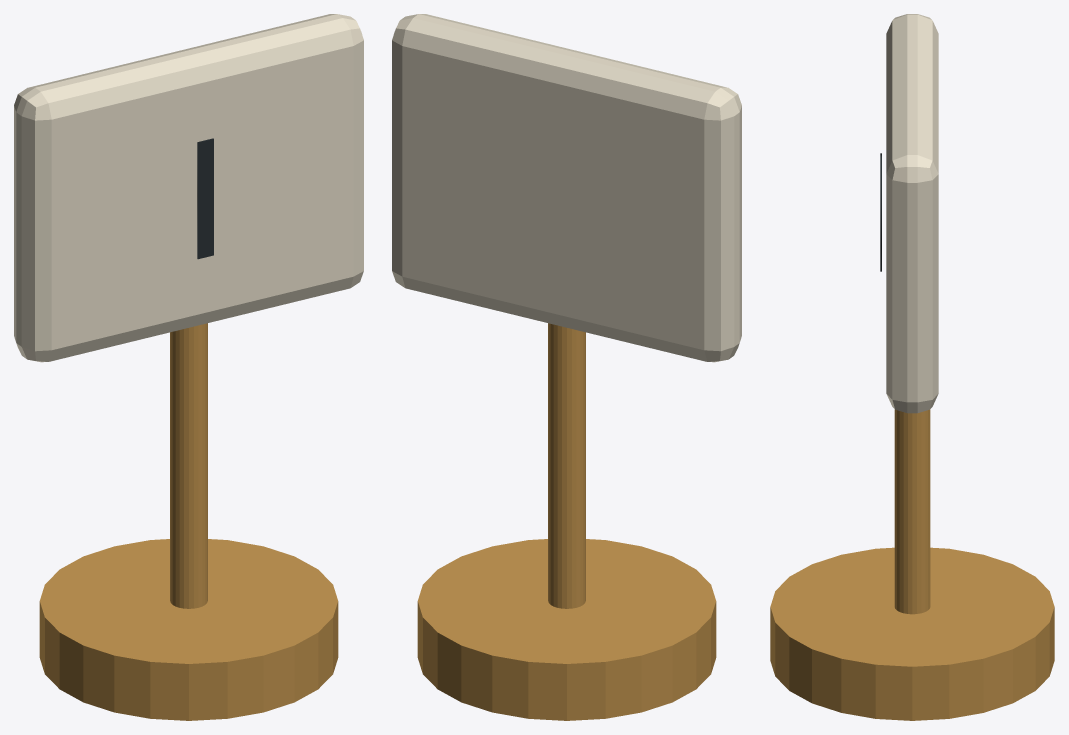
Rendered from table_sign_1.glb.
3 views of the same model, side by side, from view 1: azimuth 30°, elevation 25°; view 2: azimuth 150°, elevation 25°; view 3: azimuth 270°, elevation 25° (orthographic). The views are drawn at different scales.
Visible parts, largest first — view 1: table_sign_1; view 2: table_sign_1; view 3: table_sign_1.
Boxes of the visible parts, x1=… form: table_sign_1: x1=14, y1=14, x2=363, y2=720; table_sign_1: x1=392, y1=14, x2=741, y2=720; table_sign_1: x1=770, y1=14, x2=1054, y2=720.
Bounding box in the file's own units: 0.25 × 0.425 × 0.19.
